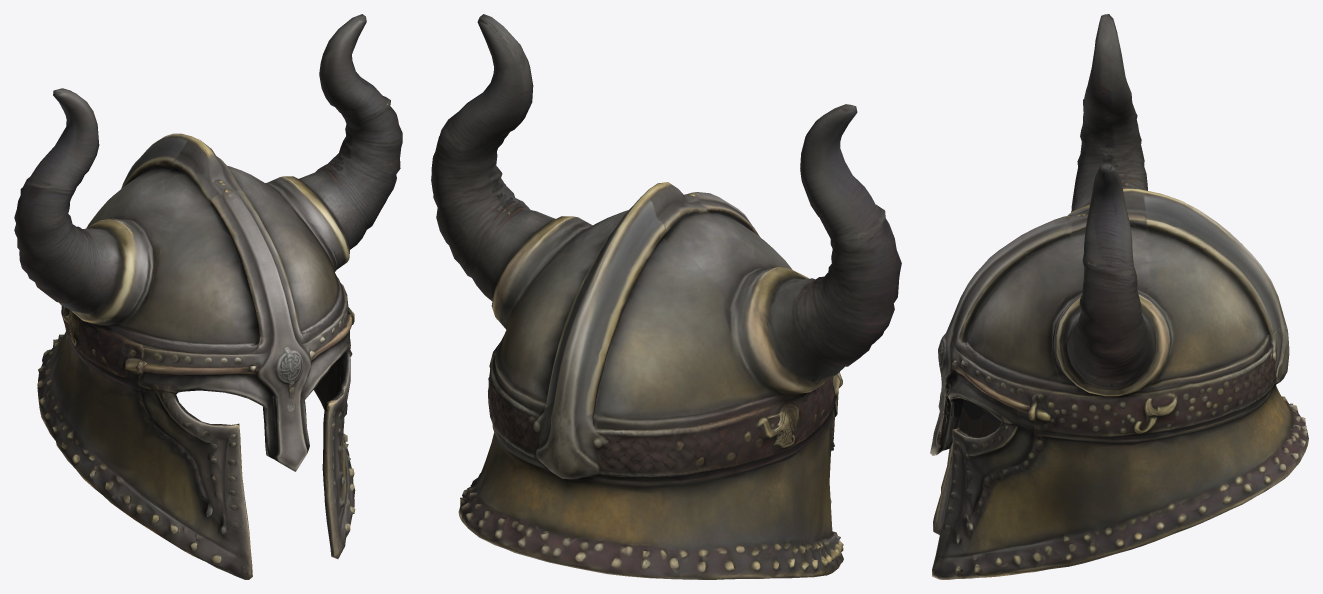
Rendered from nordic_helmet.glb.
3 views of the same model, side by side, from view 1: azimuth 30°, elevation 25°; view 2: azimuth 150°, elevation 25°; view 3: azimuth 270°, elevation 25° (orthographic). The views are drawn at different scales.
Visible parts, largest first — view 1: Object_4; view 2: Object_4; view 3: Object_4.
Part boxes in pixels (<box>): Object_4: <box>14,14,402,579</box>; Object_4: <box>431,14,901,579</box>; Object_4: <box>930,14,1308,579</box>.
Bounding box in the file's own units: 0.3492 × 0.4002 × 0.2951.
1 material, 1 textured.
